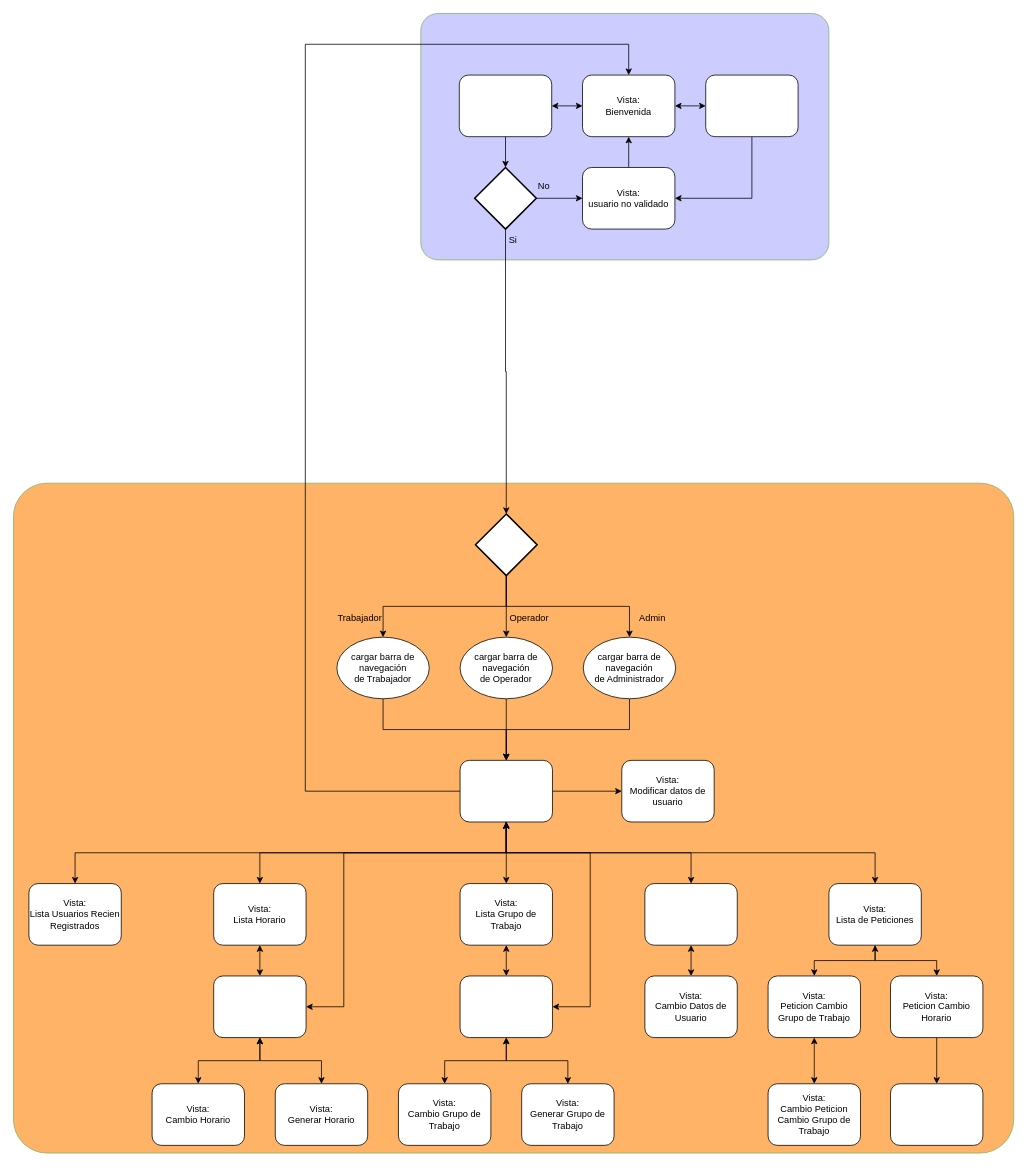
Image size: 1027x1167. Some labels were removed from this diagram. The box of each missing label's shape, as (x1, y1, x2, y2) in pixels:
tipo de usuario: (474, 513, 537, 576)
usuario validado?: (474, 166, 537, 229)
Vista: Cambio Peticion Cambio Horario: (890, 1083, 983, 1145)
Vista: Grupo de Trabajo: (459, 975, 552, 1038)
Vista: Horario: (213, 975, 306, 1038)
Vista: inicio: (459, 760, 552, 822)
Vista: inicio seción: (459, 74, 552, 137)
Vista: Lista Usuarios: (644, 883, 737, 945)
Vista: registro usuario: (705, 74, 798, 137)
